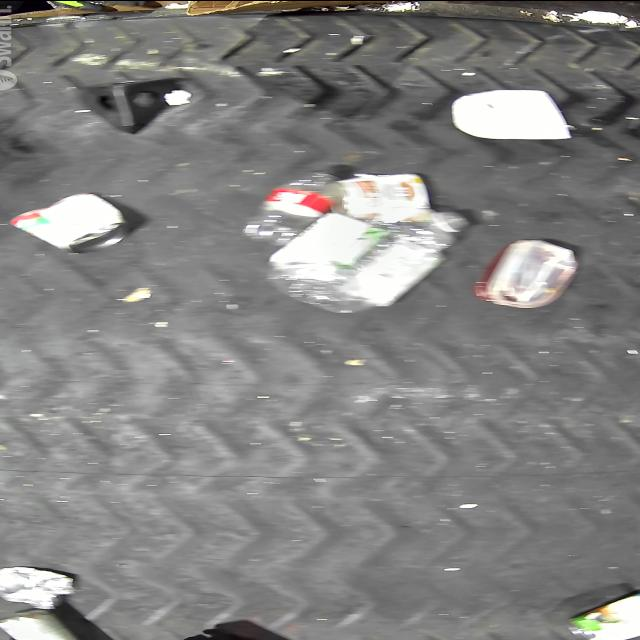can: (9, 190, 127, 250), (328, 172, 431, 218), (564, 589, 640, 640), (0, 564, 74, 608), (0, 608, 88, 640)
plastic_bottle: (266, 210, 472, 308), (241, 170, 338, 244)
